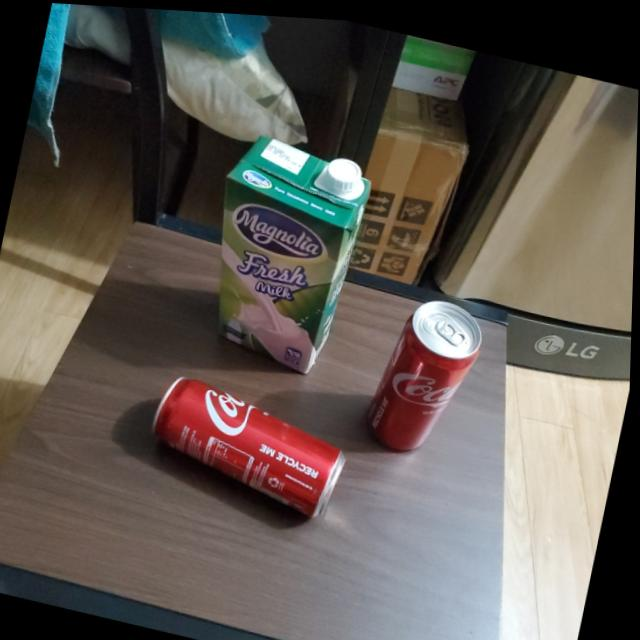coke: (146, 367, 361, 518), (361, 284, 493, 466)
milk: (190, 123, 378, 380)
